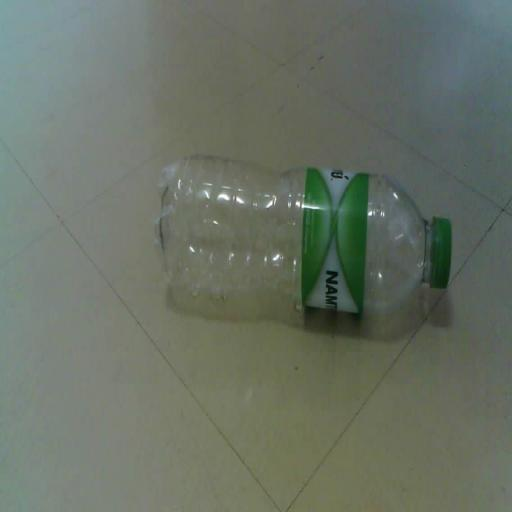bottle: (142, 126, 461, 363)
